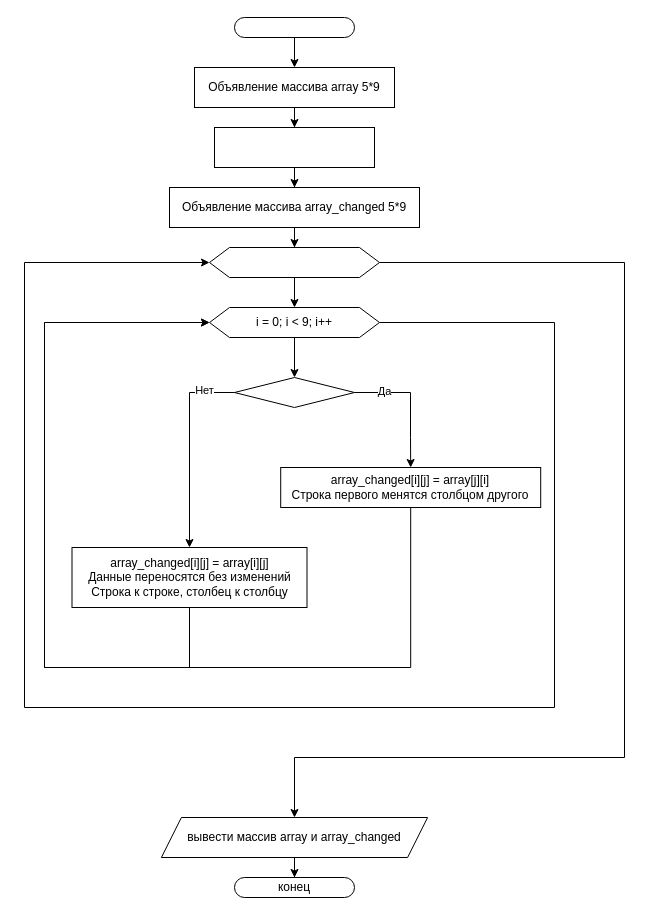
Some shapes in this 650 by 923 pixel diagram are drawn without their labels. Here are the shapes that lost their labels. From the top down, the box of each, then its label:
(234, 16, 354, 38): начало
(214, 126, 374, 168): Заполнение массива array
(208, 246, 380, 278): i = 0; i < 5; i++
(234, 376, 354, 408): j < 5
